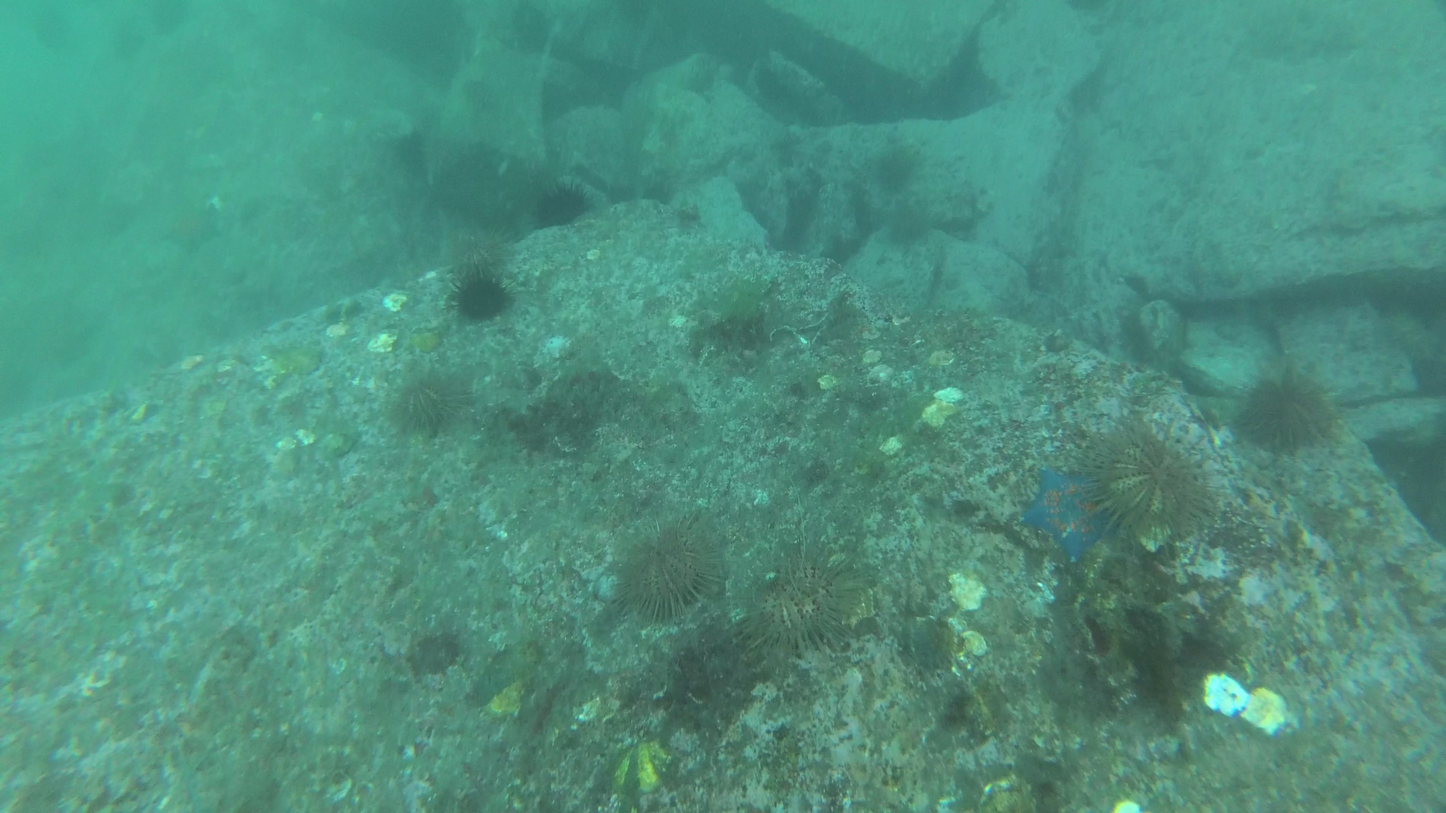holothurian: (1030, 463, 1114, 566)
scallop: (599, 740, 685, 795)
starfish: (749, 544, 861, 655), (1100, 426, 1203, 527), (610, 530, 713, 623), (1242, 369, 1340, 452), (390, 365, 460, 432), (445, 273, 515, 317), (526, 186, 591, 226), (875, 205, 938, 239), (873, 148, 921, 190)
